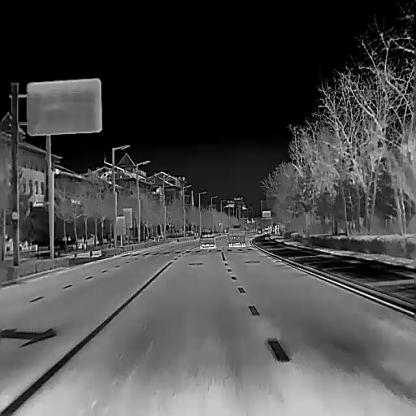car: (198, 231, 216, 251)
truck: (228, 223, 245, 245)
